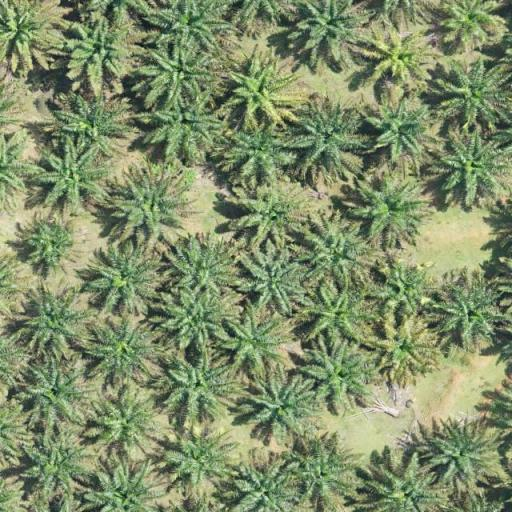Ganoderma: (380, 328, 434, 370), (368, 36, 420, 78)
